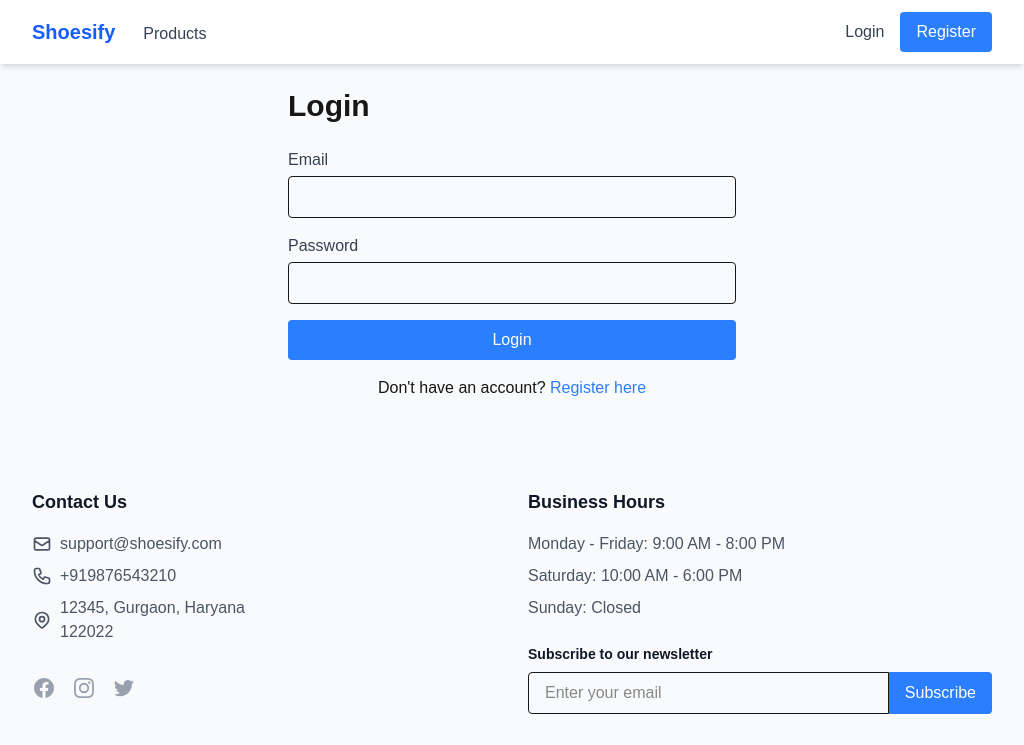
Scenario: Login Page › shows error message on failed login
Type "test@example.com" into the field labelled "Email" at {"x": 512, "y": 197}, box [288,176,736,218]
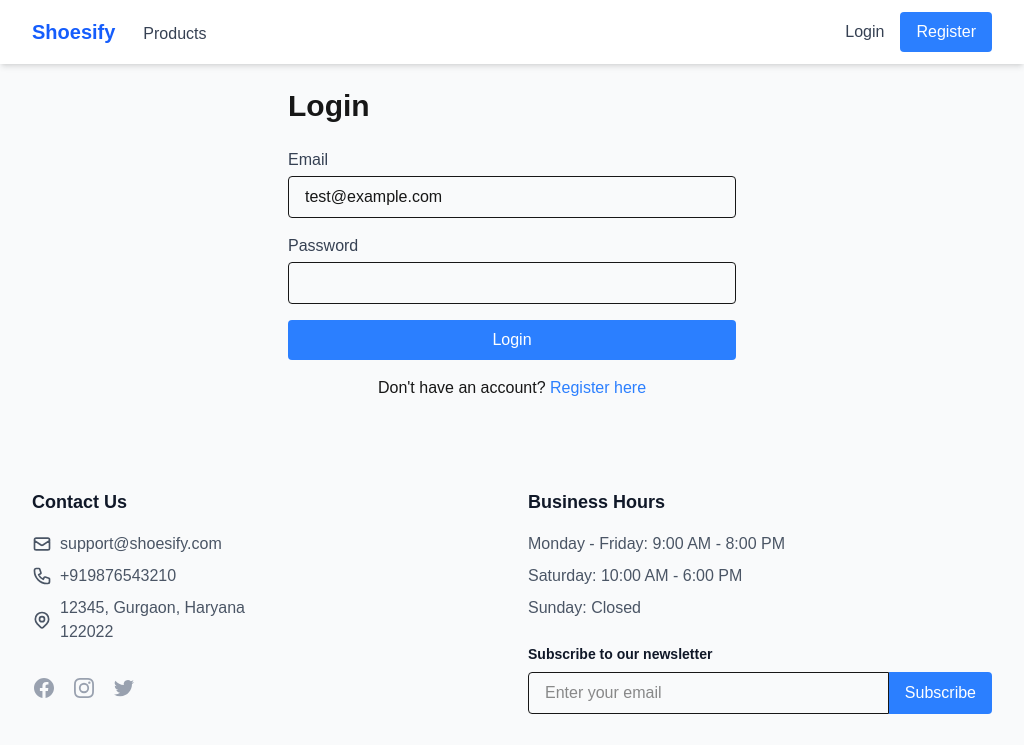
Type "wrongpassword" into the password field labelled "Password" at {"x": 512, "y": 283}, box [288,262,736,304]
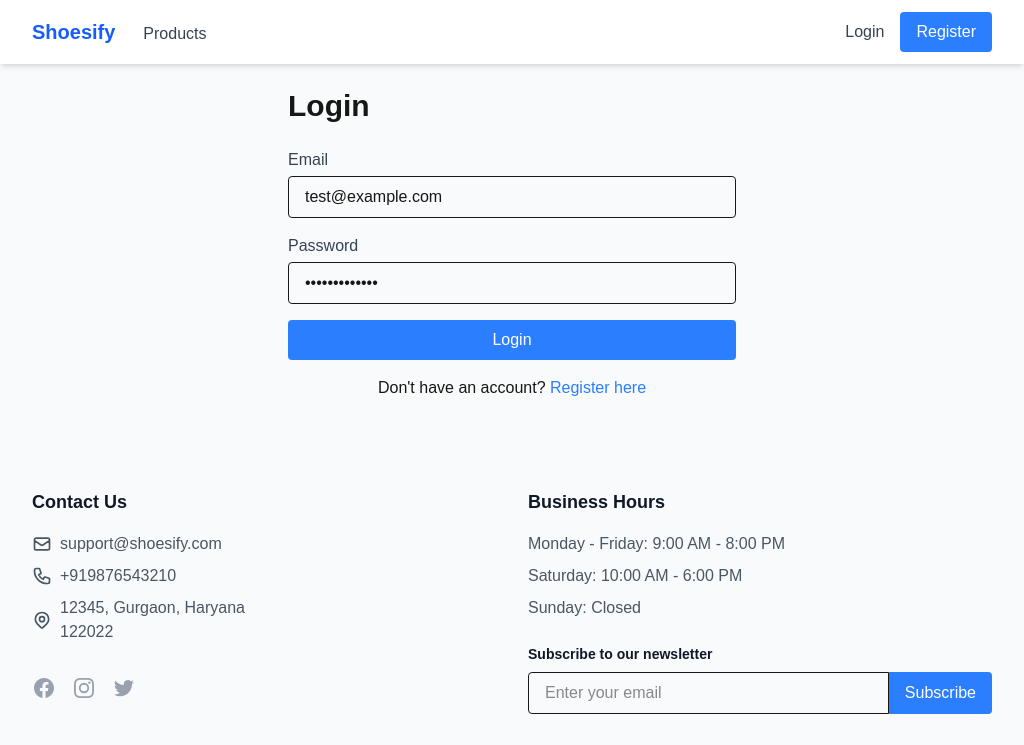
Click the button "Login" at {"x": 512, "y": 340}, box [288,320,736,360]
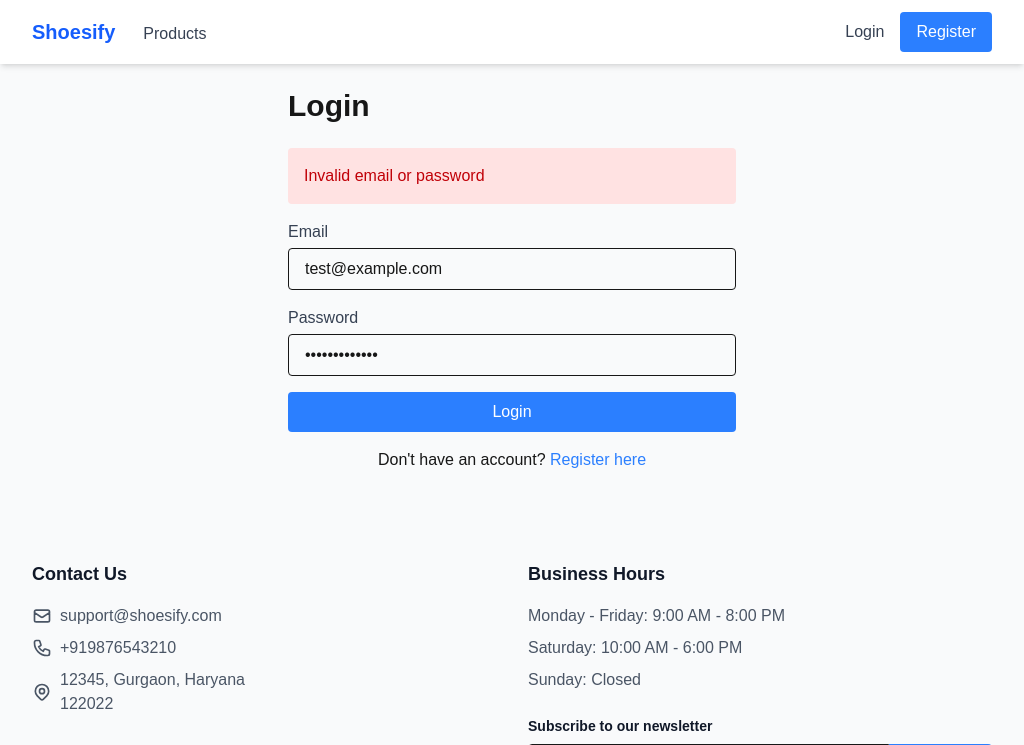
Expected: the text "Invalid email or password" is shown, [288,148,736,204]
